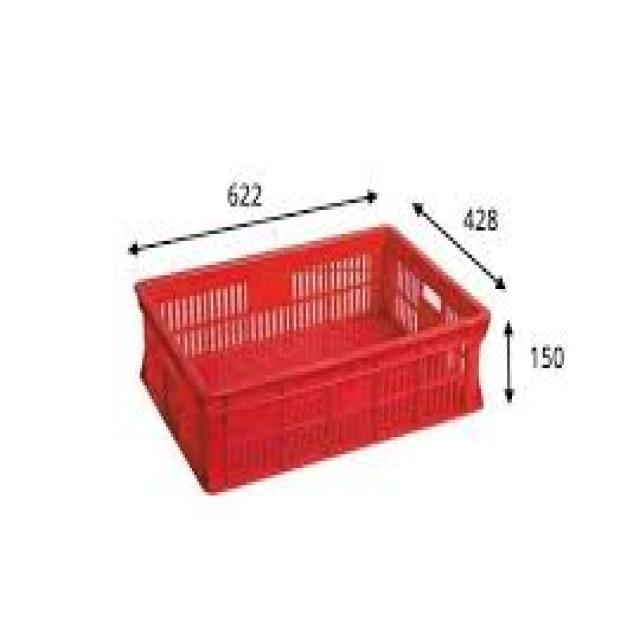basket: (115, 186, 517, 504)
